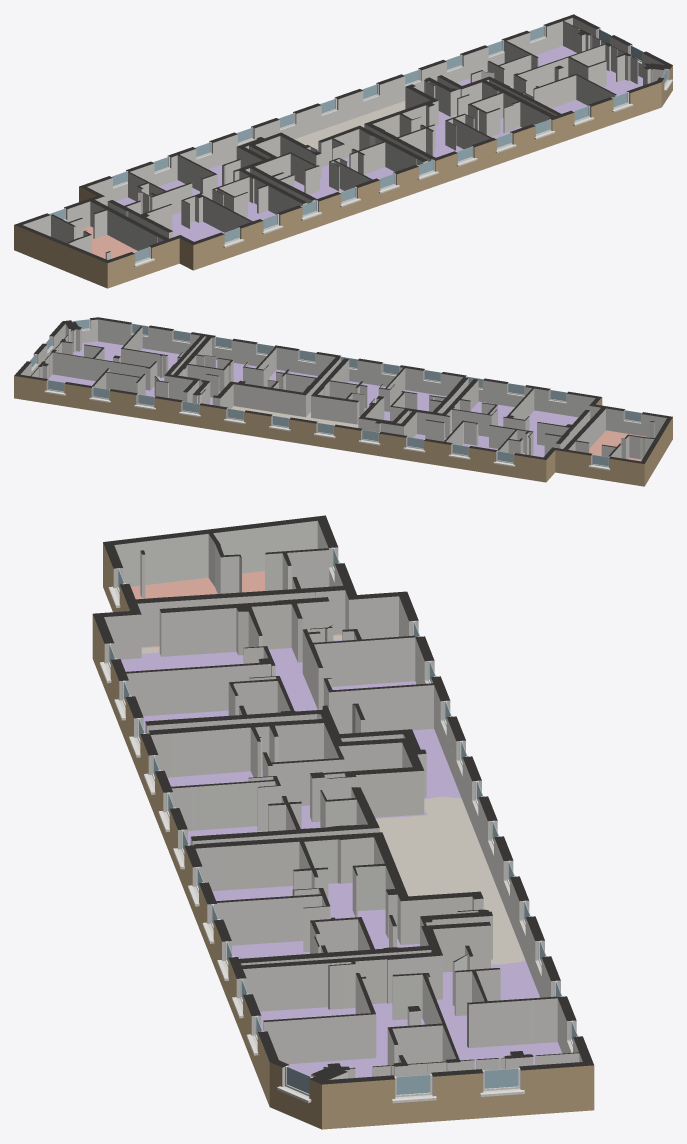
File: cut-4.glb
3 renders of one model, top to bottom at view 1: azimuth 30°, elevation 25°; view 2: azimuth 150°, elevation 25°; view 3: azimuth 270°, elevation 25°, orthographic. The views are drawn at different scales.
Parts seen in each view (by area): view 1: cut floor; view 2: cut floor; view 3: cut floor.
Boxes of the visible parts, x1=… form: cut floor: x1=14, y1=14, x2=672, y2=288; cut floor: x1=14, y1=317, x2=672, y2=486; cut floor: x1=92, y1=515, x2=594, y2=1129.
Size of the model in its own units: 40.71 by 1.52 by 15.17.
